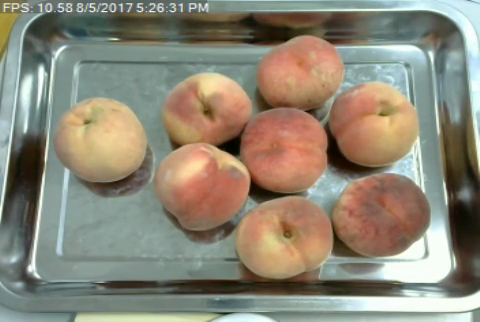Peach: (154, 142, 250, 232), (233, 195, 334, 279), (54, 95, 148, 185), (332, 172, 430, 258), (238, 106, 329, 193), (328, 81, 417, 168), (162, 71, 252, 147), (253, 35, 344, 108)
